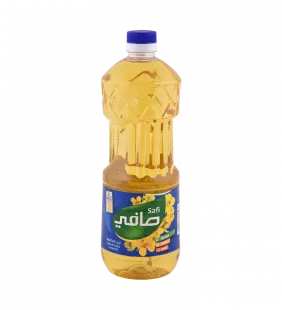SAFI: (92, 20, 189, 284)
